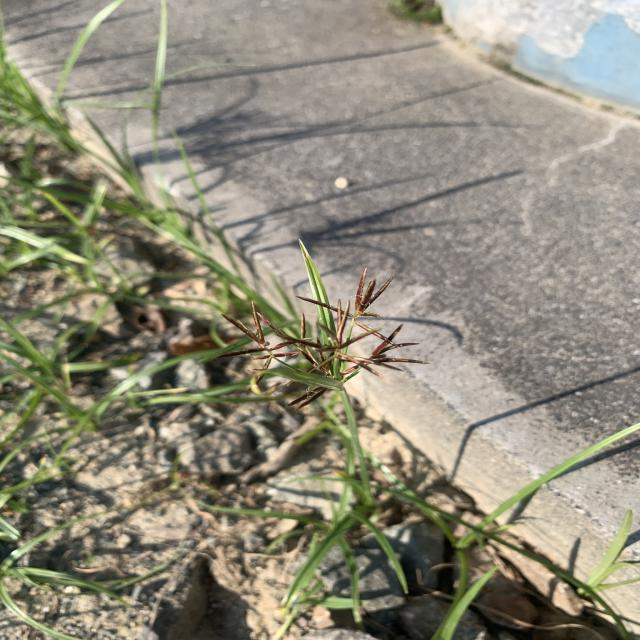cyperus: (213, 258, 434, 405)
